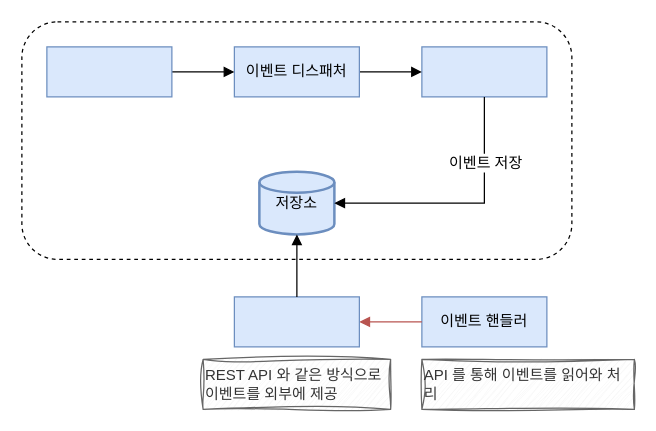
Image size: 656x431. Some labels were removed from this diagram. The centre of each missing label's shape, as x and y in pixels:
API: the point at 296,321
도메인: the point at 109,71
로컬 핸들러: the point at 484,71
